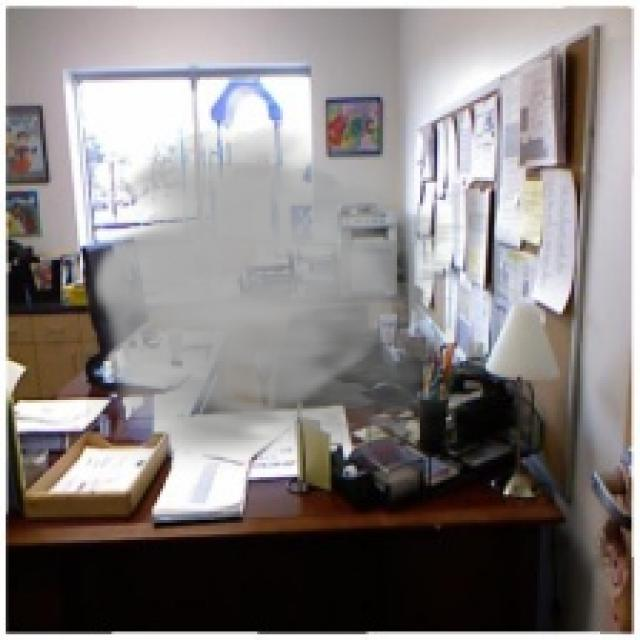smoke: (86, 126, 506, 474)
